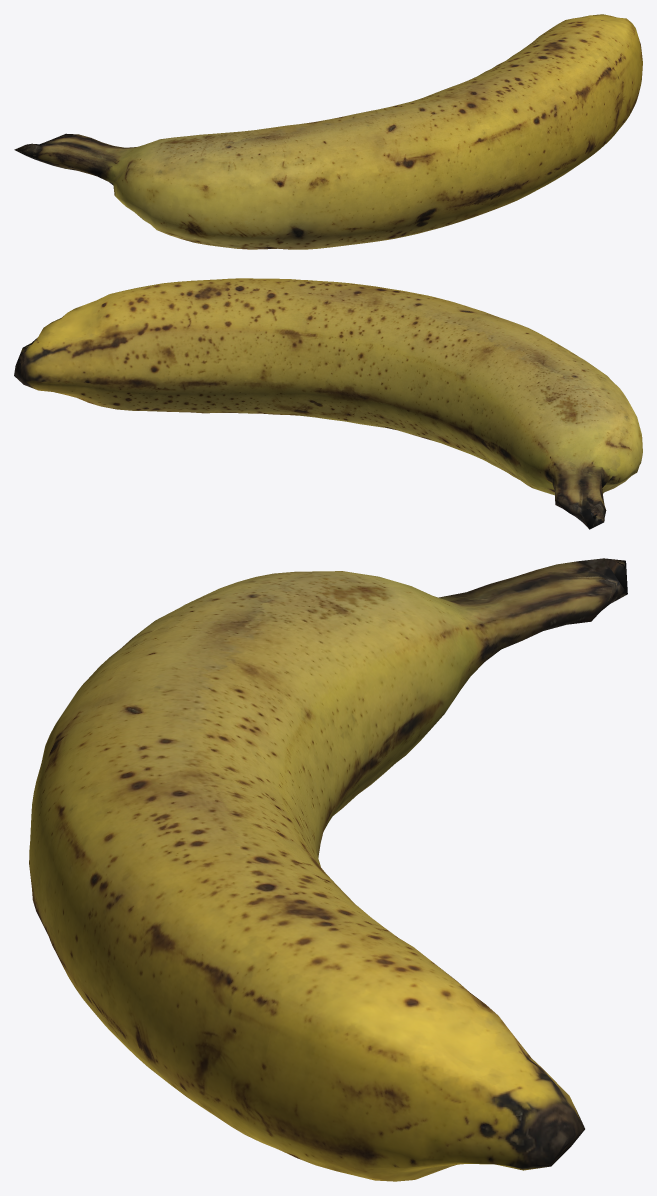
The model's file is export_banana.obj.
3 views of the same model, one above another, from view 1: azimuth 30°, elevation 25°; view 2: azimuth 150°, elevation 25°; view 3: azimuth 270°, elevation 25° (orthographic). The views are drawn at different scales.
Visible parts, largest first — view 1: banana_mesh_quad.001; view 2: banana_mesh_quad.001; view 3: banana_mesh_quad.001.
Boxes of the visible parts, <box> form: banana_mesh_quad.001: <box>14,14,642,249</box>; banana_mesh_quad.001: <box>14,278,642,529</box>; banana_mesh_quad.001: <box>29,558,627,1181</box>.
Bounding box in the file's own units: 1.38 × 0.2603 × 0.61.
Materials: 1 (1 with a texture image).
